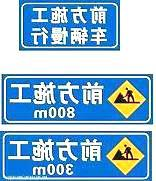sign: (3, 75, 152, 124), (2, 133, 151, 181), (20, 1, 118, 50)
